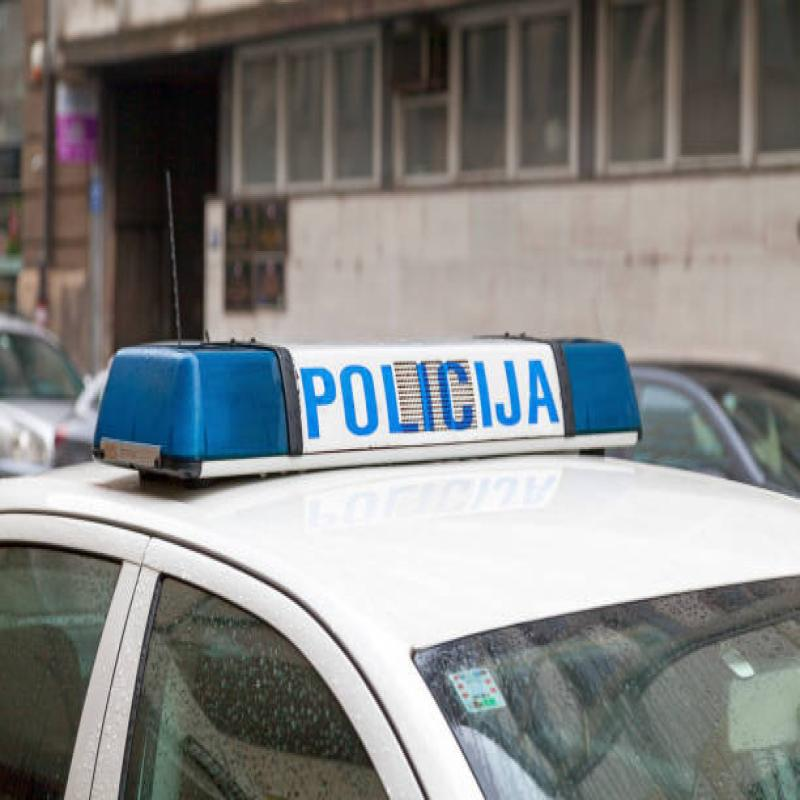AmbulanceSiren: (115, 304, 682, 482)
